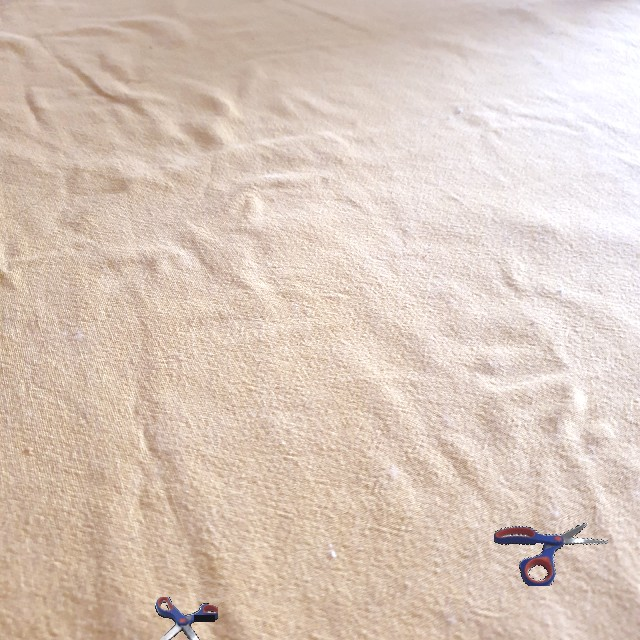scissors: (494, 522, 608, 586), (140, 597, 218, 640)
